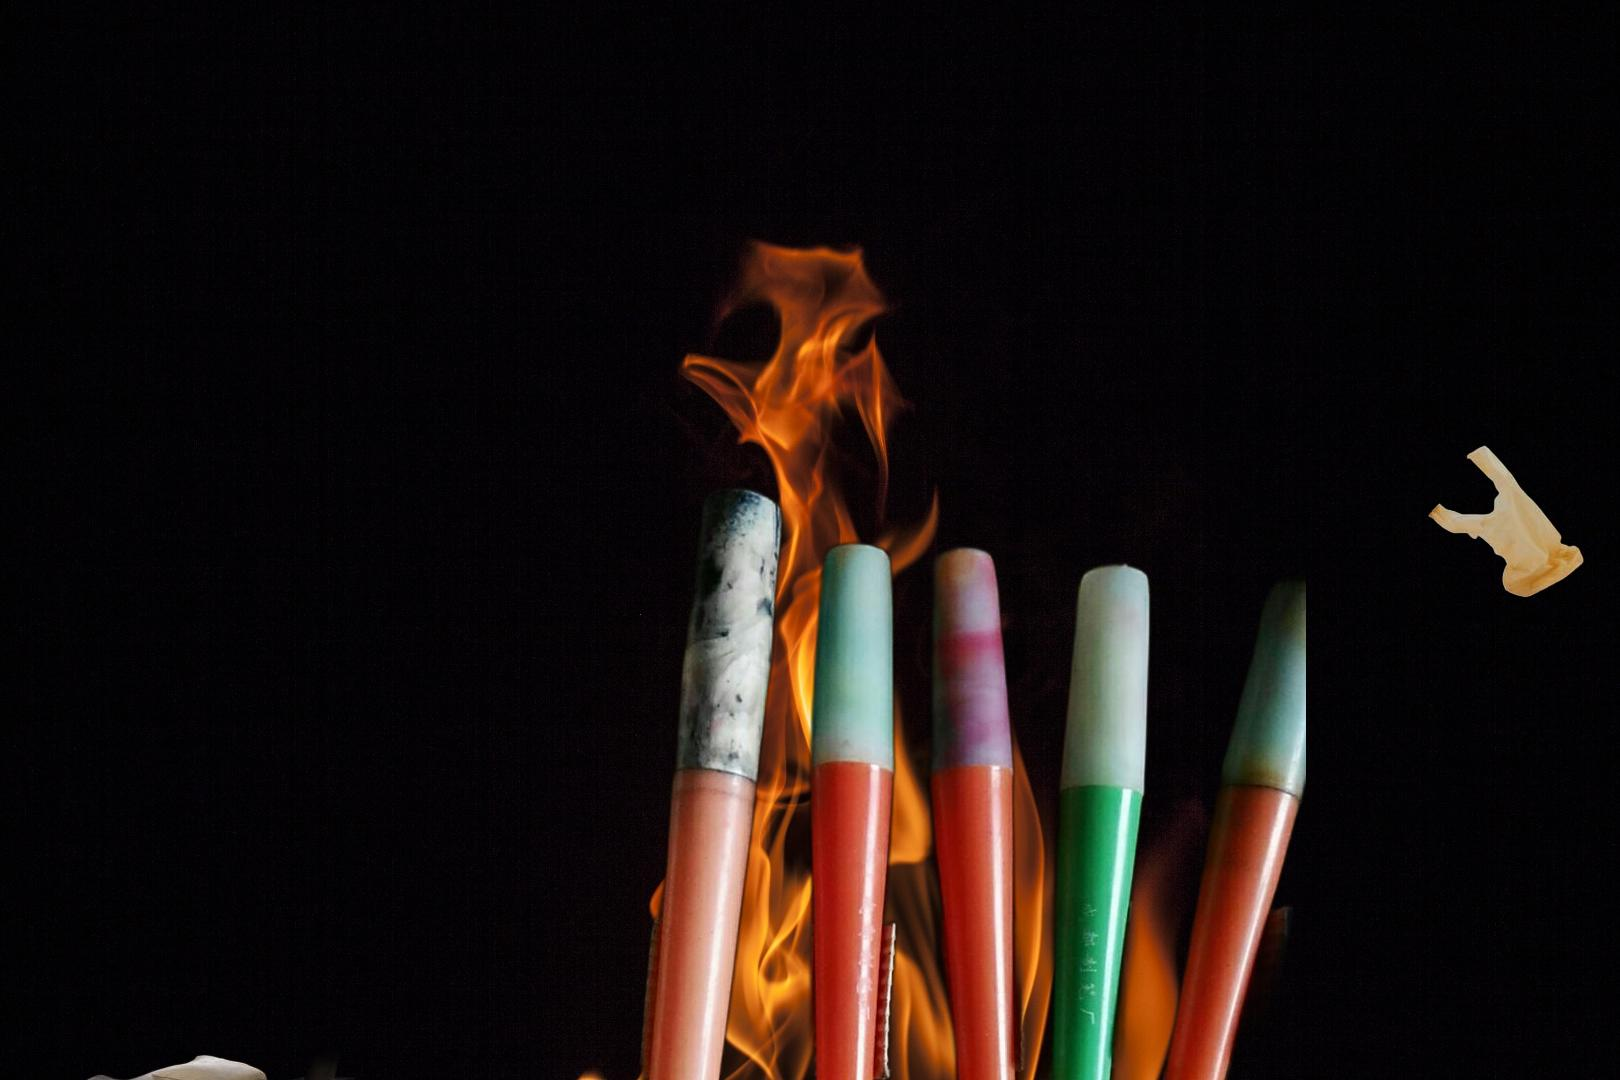penholder: (610, 477, 1305, 1080)
plastic-bag: (1425, 433, 1606, 599)
trashbox-cardboard: (19, 1041, 499, 1080)
